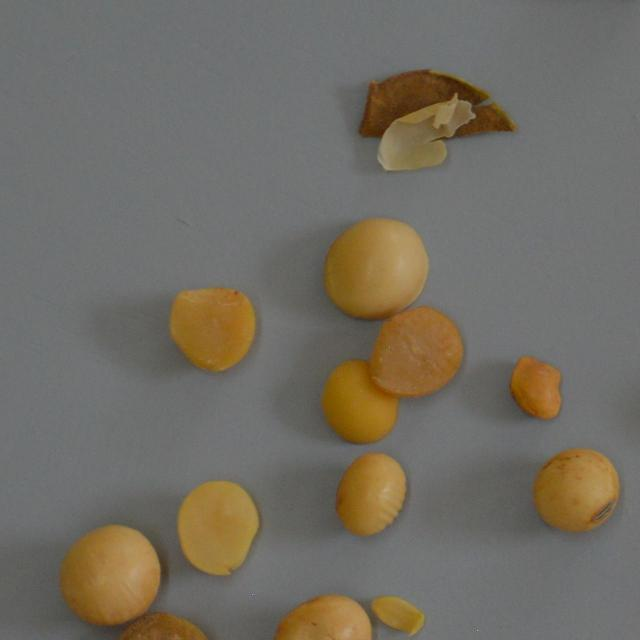cuerpos_extranos: (355, 66, 517, 144), (320, 213, 431, 318), (54, 520, 162, 625), (374, 84, 476, 188), (160, 277, 261, 382), (169, 476, 270, 580), (366, 300, 466, 405), (530, 444, 622, 534), (317, 357, 402, 448), (334, 450, 410, 538), (268, 587, 376, 640), (506, 352, 563, 422), (116, 610, 220, 640), (368, 593, 426, 637)
